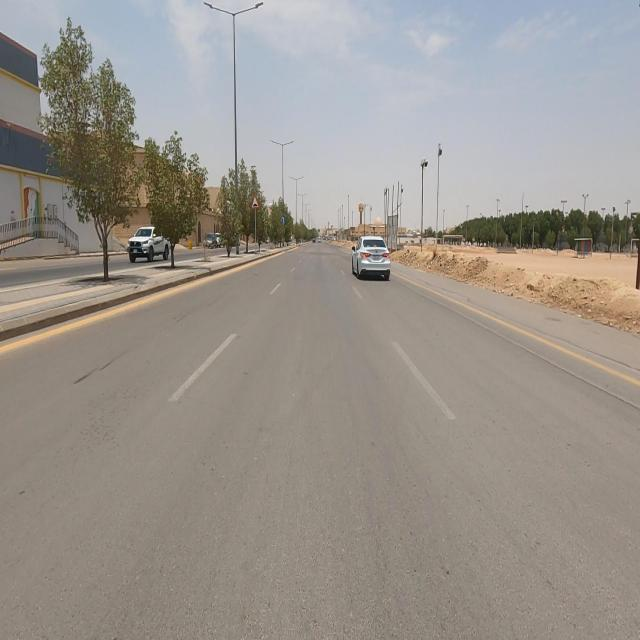debris: (373, 191, 416, 274)
